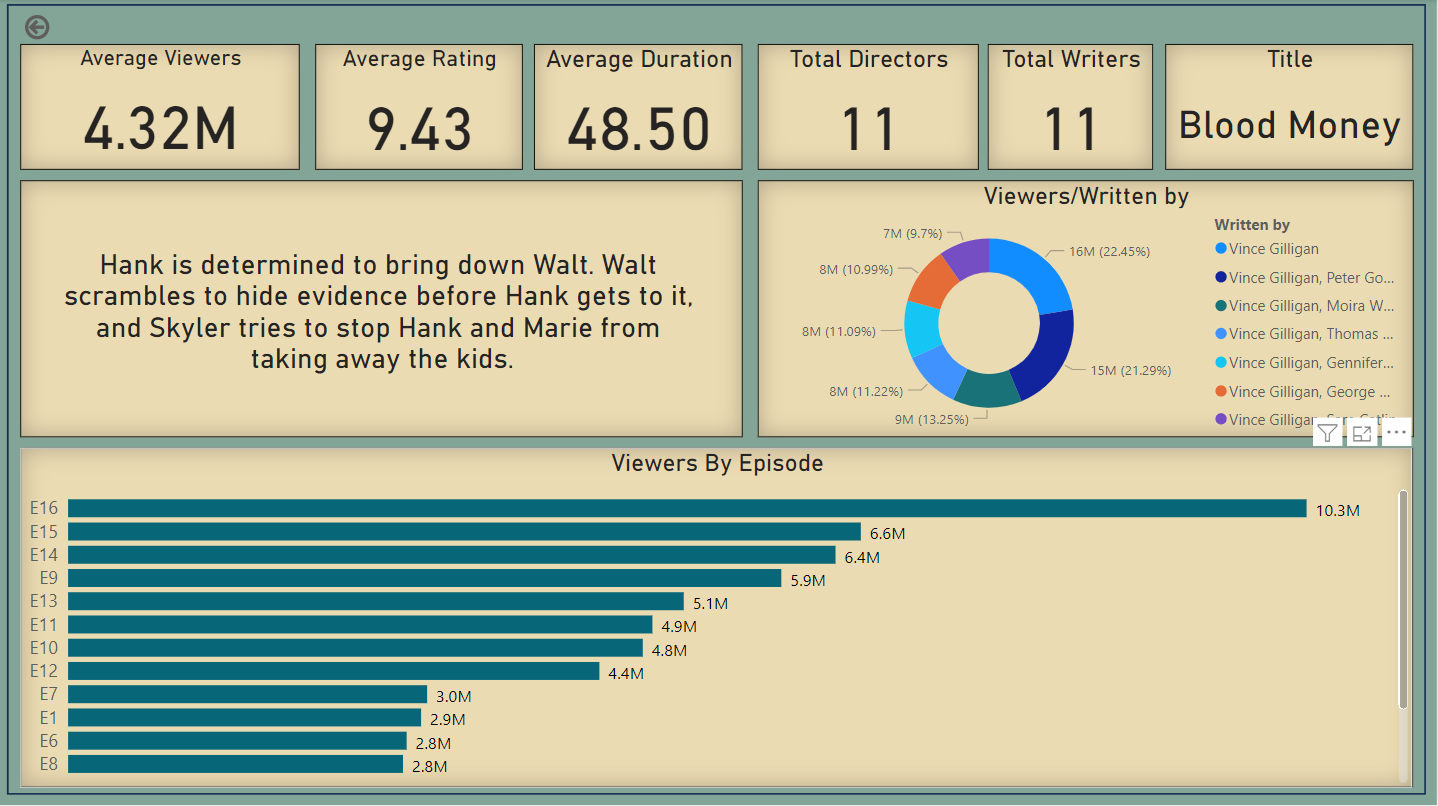

The page's visual inventory and layout, read from the dashboard file:
{"tool":"powerbi","page":{"name":"Season 5","canvas":[1280,720],"ordinal":5},"visuals":[{"type":"card","title":"Average Viewers","fields":{"Values":["breaking_bad.AverageViewsSeason5"]},"box":[19.3,39.8,248.4,112.2],"z":0},{"type":"card","title":"Average Rating","fields":{"Values":["breaking_bad.Average Rating Season 5"]},"box":[281,39.8,184.5,112.2],"z":1000},{"type":"card","title":"Average Duration","fields":{"Values":["breaking_bad.Average Duration Season 5"]},"box":[476.4,39.8,185.7,112.2],"z":2000},{"type":"card","fields":{"Values":["Min(breaking_bad.Summary)"]},"box":[19.3,161.6,642.8,229.1],"z":3000},{"type":"donutChart","title":"Viewers/Written by","fields":{"Category":["breaking_bad.Written by"],"Y":["Sum(breaking_bad.US.viewers_million)"]},"box":[675.4,161.6,583.7,229.1],"z":4000},{"type":"barChart","title":"Viewers By Episode","fields":{"Category":["breaking_bad.Episode"],"Y":["Sum(breaking_bad.US.viewers_million)"]},"box":[19.3,399.2,1239.8,302.7],"z":5000},{"type":"card","title":"Total Directors","fields":{"Values":["Count(breaking_bad.Directed by)"]},"box":[675.4,39.8,196.6,112.2],"z":6000},{"type":"card","title":"Total Writers","fields":{"Values":["Count(breaking_bad.Directed by)"]},"box":[880.4,39.8,147.1,112.2],"z":7000},{"type":"card","title":"Title","fields":{"Values":["Min(breaking_bad.Title)"]},"box":[1038.4,39.8,220.7,112.2],"z":8000},{"type":"actionButton","box":[19.3,9.6,78.4,30.2],"z":9000}]}

Visuals, with their boxes in screenshot pixels (x1, y1, x2, y2), scaled from the page's 1280x720 canvas onto the 1438x806 screenshot:
"Average Viewers" card: {"x1": 22, "y1": 45, "x2": 301, "y2": 170}
"Average Rating" card: {"x1": 316, "y1": 45, "x2": 523, "y2": 170}
"Average Duration" card: {"x1": 535, "y1": 45, "x2": 744, "y2": 170}
card - Min(breaking_bad.Summary): {"x1": 22, "y1": 181, "x2": 744, "y2": 437}
"Viewers/Written by" donutChart: {"x1": 759, "y1": 181, "x2": 1415, "y2": 437}
"Viewers By Episode" barChart: {"x1": 22, "y1": 447, "x2": 1415, "y2": 786}
"Total Directors" card: {"x1": 759, "y1": 45, "x2": 980, "y2": 170}
"Total Writers" card: {"x1": 989, "y1": 45, "x2": 1154, "y2": 170}
"Title" card: {"x1": 1167, "y1": 45, "x2": 1415, "y2": 170}
actionButton: {"x1": 22, "y1": 11, "x2": 110, "y2": 45}
